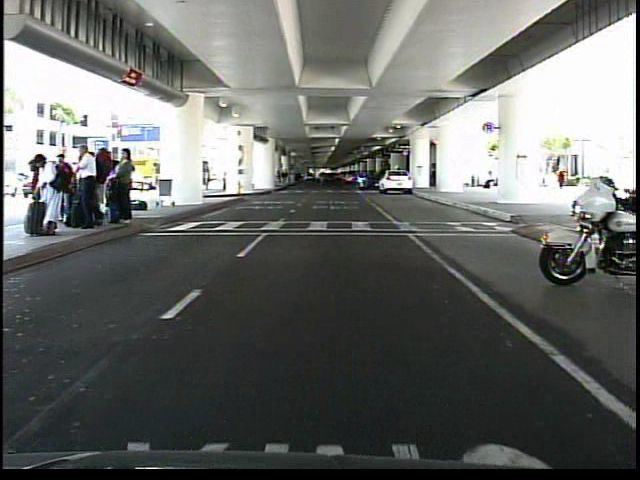person: (548, 157, 571, 196), (482, 164, 496, 195)
